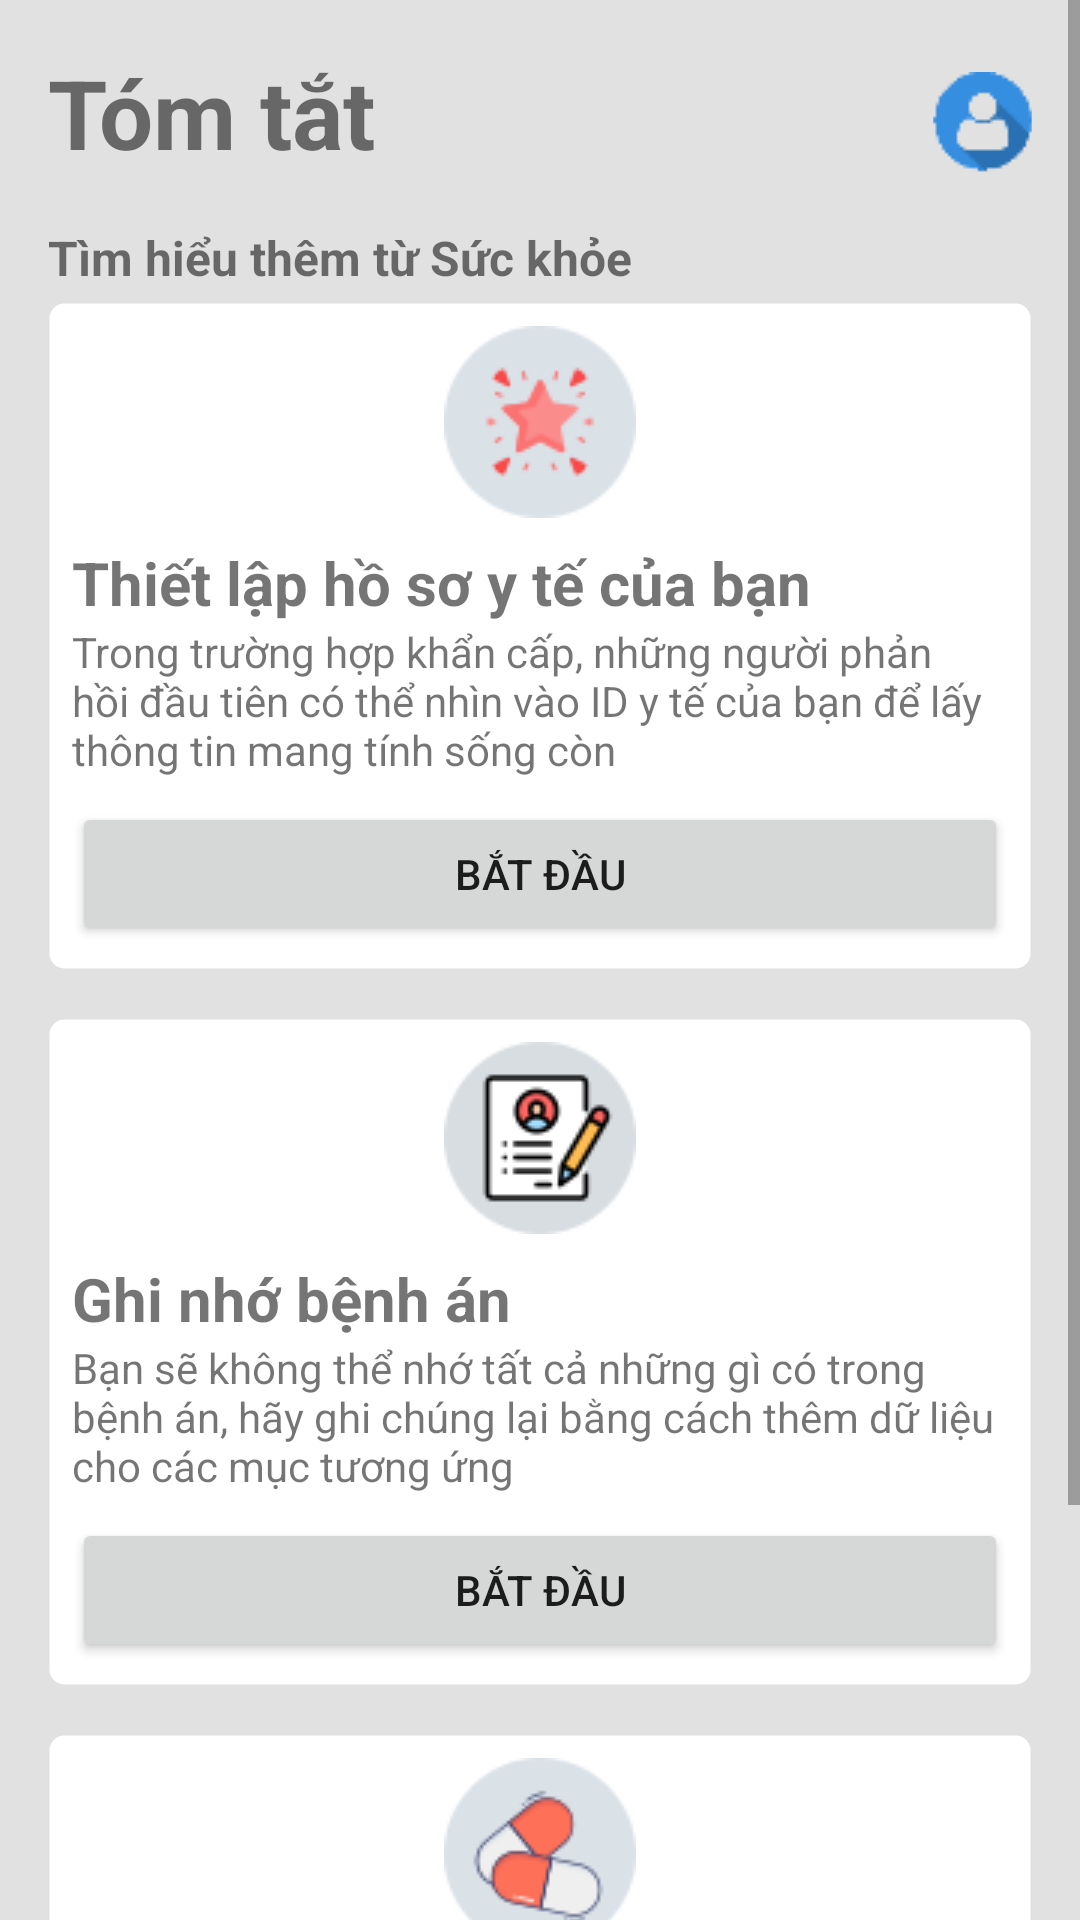

Icon bounding boxes for this 1080px x 1920px phone screenshot, format bbox=(x1, y1, x2, y2):
account: bbox=(933, 72, 1032, 172)
resume: bbox=(444, 1042, 636, 1234)
star: bbox=(444, 326, 636, 518)
